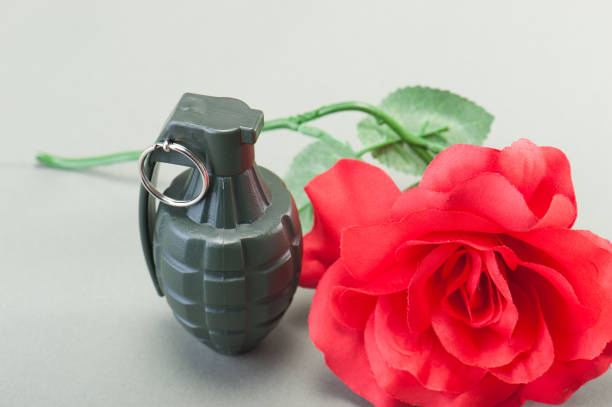e1: (134, 91, 304, 361)
